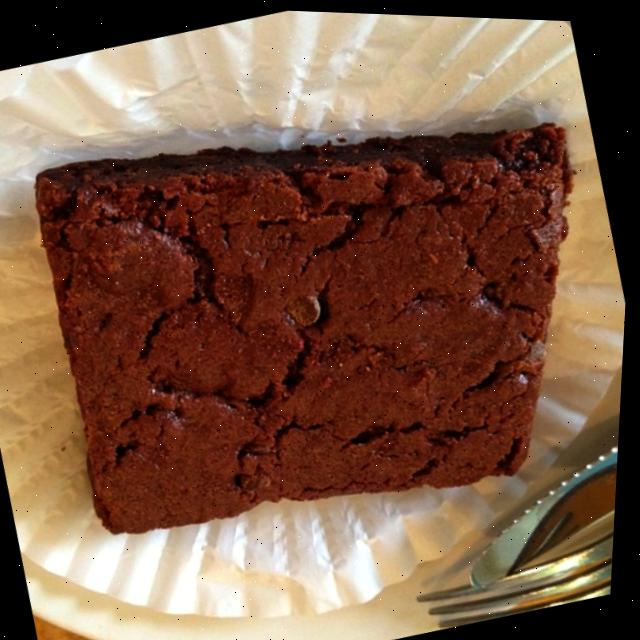蛋糕甜品: (0, 17, 636, 618)
